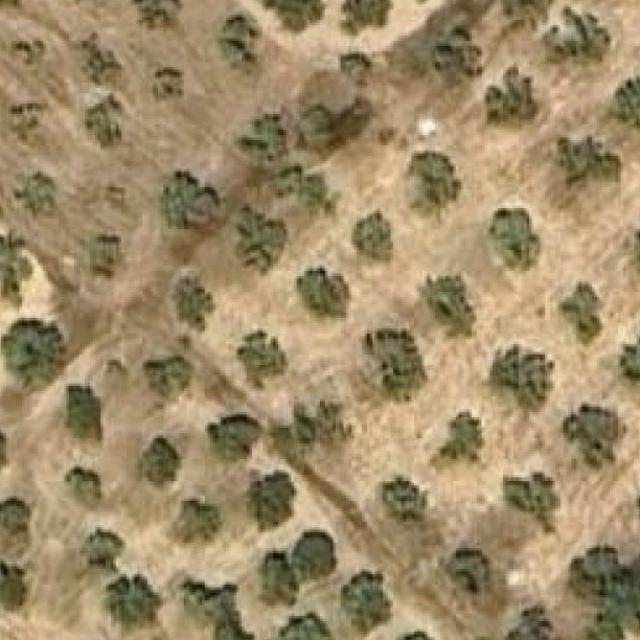Tree: (571, 545, 640, 640), (262, 530, 336, 607), (360, 328, 428, 402), (271, 402, 350, 461), (488, 344, 556, 412), (4, 321, 67, 389), (407, 152, 462, 224), (480, 67, 538, 135), (561, 404, 618, 470), (545, 9, 611, 65), (64, 30, 126, 89), (503, 472, 561, 532), (104, 574, 166, 630), (435, 412, 490, 473), (341, 572, 391, 638), (236, 328, 289, 389), (422, 276, 475, 337), (490, 208, 540, 271), (231, 213, 281, 276), (435, 22, 484, 84), (558, 281, 604, 347), (160, 172, 210, 232), (555, 142, 613, 192), (283, 161, 338, 213), (247, 473, 297, 530), (85, 93, 135, 149), (231, 112, 286, 162), (297, 266, 349, 316), (382, 478, 428, 533), (64, 386, 103, 446), (174, 499, 224, 544), (440, 548, 490, 593), (137, 438, 179, 491), (0, 496, 38, 551), (257, 0, 325, 30), (0, 231, 29, 301), (210, 415, 255, 460), (146, 354, 188, 402), (80, 527, 124, 572), (354, 210, 393, 260), (341, 0, 393, 37), (609, 77, 640, 134), (219, 14, 255, 62), (278, 610, 333, 640), (508, 602, 550, 640), (131, 0, 184, 30), (210, 610, 262, 640), (17, 174, 53, 217), (85, 234, 119, 279), (618, 328, 640, 394), (172, 286, 206, 328), (491, 0, 553, 23), (0, 560, 29, 609), (67, 467, 101, 506), (620, 210, 640, 276), (8, 104, 38, 148), (302, 98, 335, 131), (339, 49, 376, 78), (153, 67, 184, 101), (396, 626, 438, 640), (395, 0, 434, 7)
